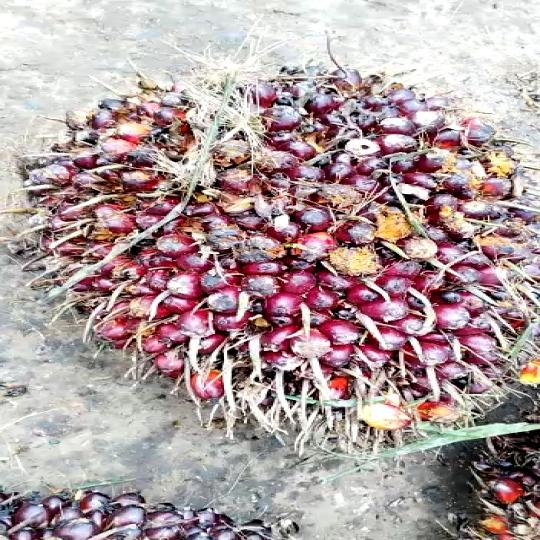masak: (4, 68, 540, 457)
